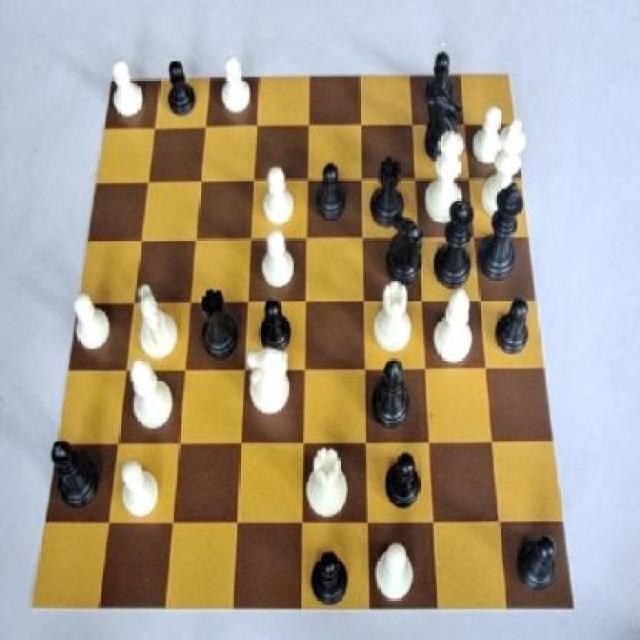bishop: (45, 432, 106, 513), (368, 348, 416, 440)
black-bishop: (474, 172, 527, 288)
black-king: (420, 82, 468, 168), (383, 206, 425, 291)
black-knight: (377, 437, 425, 518), (512, 525, 564, 597), (488, 289, 535, 365), (305, 545, 357, 612), (252, 289, 298, 358), (309, 157, 350, 227), (160, 52, 202, 120), (418, 44, 459, 110)
black-pawn: (431, 192, 480, 293)
black-queen: (193, 283, 244, 365), (366, 149, 411, 230)
black-rook: (424, 280, 478, 372), (124, 357, 178, 435)
white-bishop: (477, 111, 531, 222)
white-king: (128, 275, 184, 364), (243, 342, 297, 420)
white-knight: (68, 278, 117, 361), (114, 457, 171, 525), (371, 538, 423, 606), (257, 158, 303, 232), (103, 57, 149, 125), (468, 99, 512, 168), (258, 226, 300, 294), (218, 54, 257, 121)
white-pawn: (422, 123, 472, 228)
white-queen: (304, 434, 356, 523), (369, 277, 416, 360)
